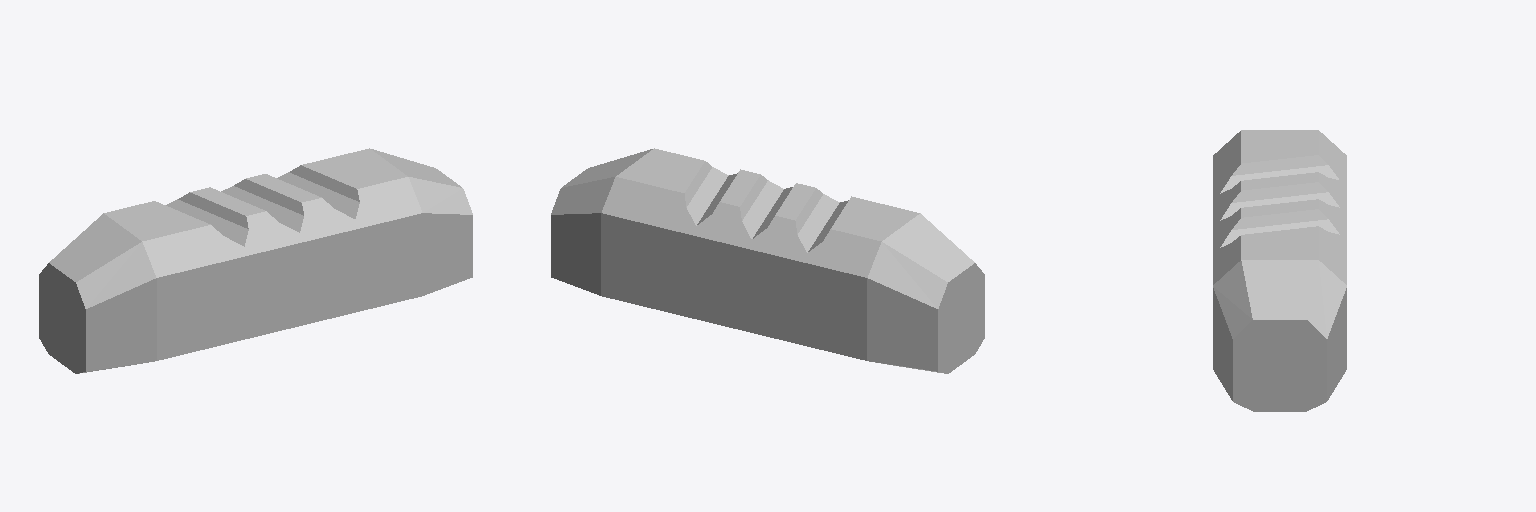
File: loaf-baguette.obj
3 views of the same model, side by side, from view 1: azimuth 30°, elevation 25°; view 2: azimuth 150°, elevation 25°; view 3: azimuth 270°, elevation 25° (orthographic).
Parts seen in each view (by area): view 1: loaf-baguette; view 2: loaf-baguette; view 3: loaf-baguette.
Part boxes in pixels (bbox=[...]): loaf-baguette: bbox=[39, 148, 472, 373]; loaf-baguette: bbox=[551, 148, 984, 373]; loaf-baguette: bbox=[1213, 130, 1346, 411].
Bounding box in the file's own units: 0.83 × 0.25 × 0.25.